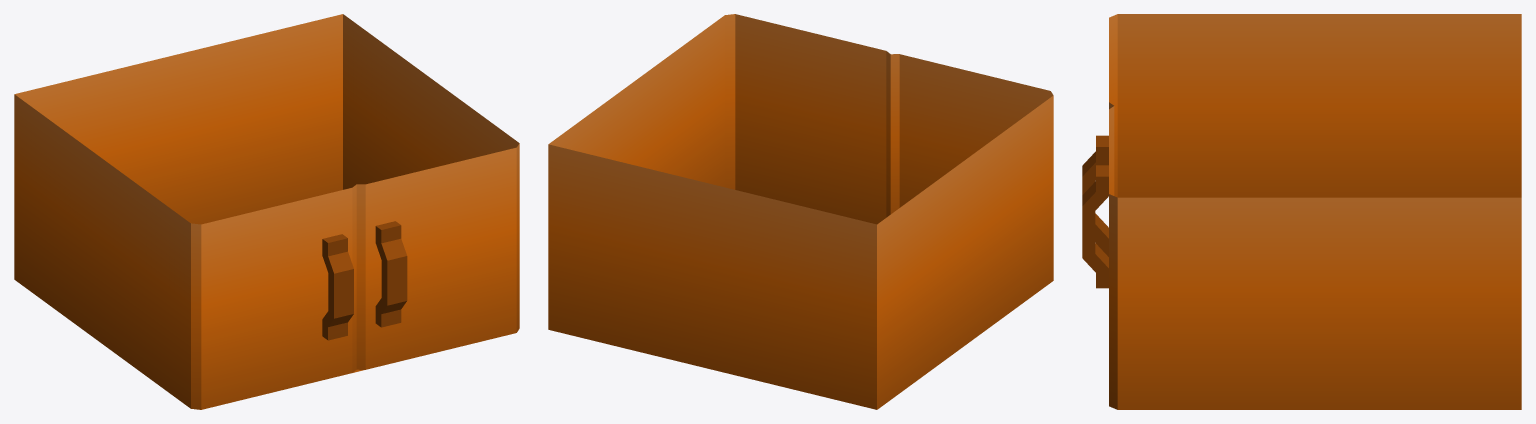
Rendered from Counter_01_v05_C03.fbx.
3 renders of one model, left to right at view 1: azimuth 30°, elevation 25°; view 2: azimuth 150°, elevation 25°; view 3: azimuth 270°, elevation 25°, orthographic. The views are drawn at different scales.
Visible parts, largest first — view 1: Counter_01_v05_C03; view 2: Counter_01_v05_C03; view 3: Counter_01_v05_C03.
Boxes of the visible parts, x1,y1,x2,y2 form: Counter_01_v05_C03: (14,14,519,409); Counter_01_v05_C03: (548,14,1053,409); Counter_01_v05_C03: (1082,14,1521,409).
Size of the model in its own units: 100 by 53.91 by 101.
